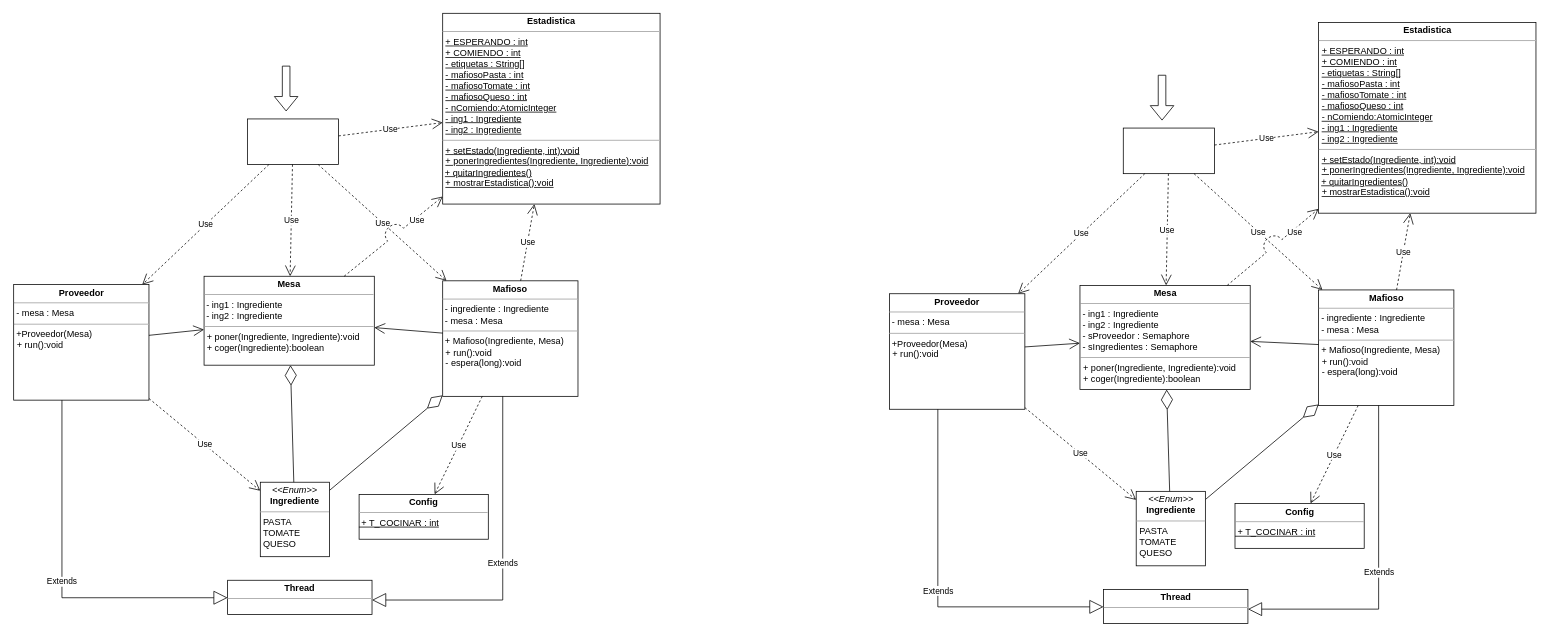
Image size: 1549x637. Some labels were removed from this diagram. Here are the shapes that lost their labels. From the top down, the box of each, then its label:
(247, 118, 339, 165): Reto7_8B_A + main(String)
(1123, 127, 1214, 174): Reto7_8B_B + main(String)
